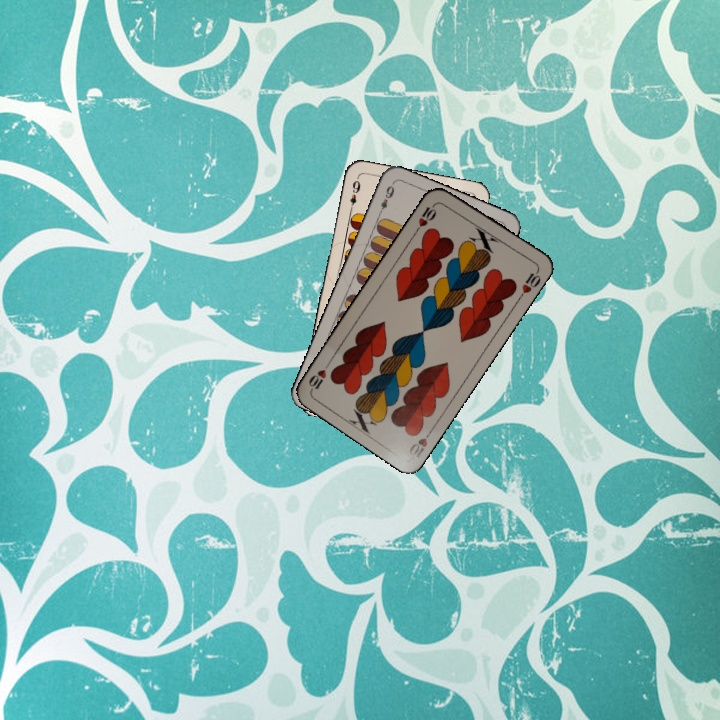E9: (374, 181, 397, 218), (345, 174, 363, 215)
H10: (405, 424, 436, 460), (412, 199, 440, 235)
